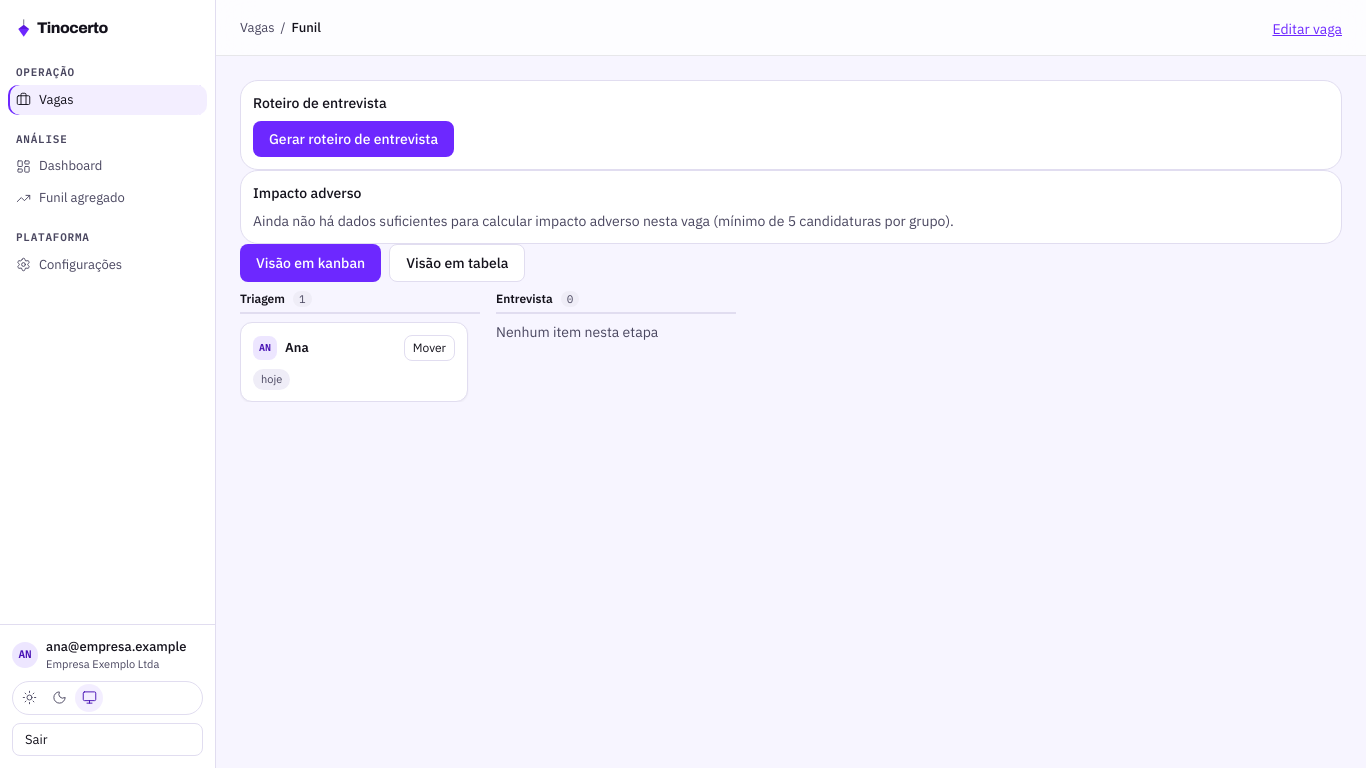
it: FunilPage › trocar de tabela para kanban limpa a seleção e fecha o menu de lote (achado F4)
Check: the link "Ana" is shown, box [285,339,309,356]
Click the button "Visão em tabela".
click(457, 263)  # box [389,244,525,282]
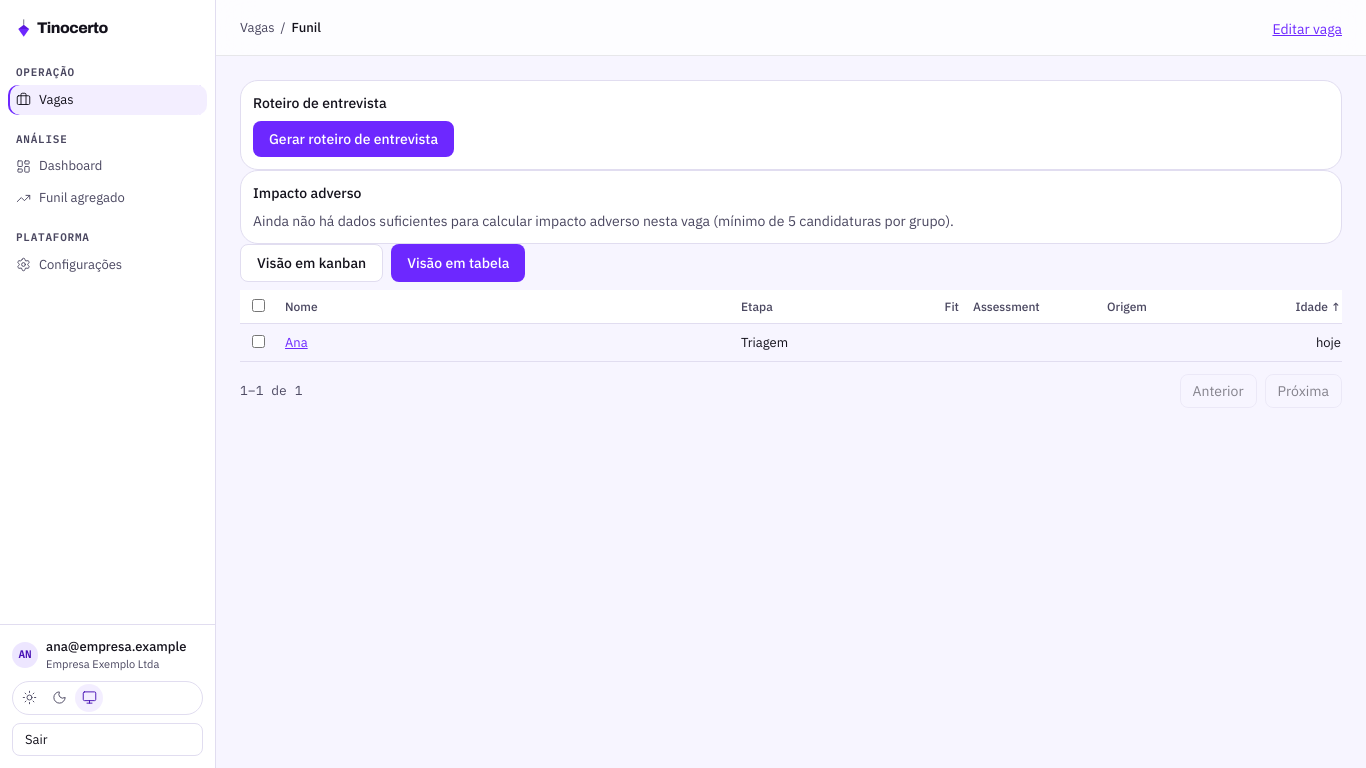
Check: the table is shown, box [240,290,1342,362]
Click the checkbox named "Selecionar linha Ana".
click(258, 341)  # box [252,334,265,348]
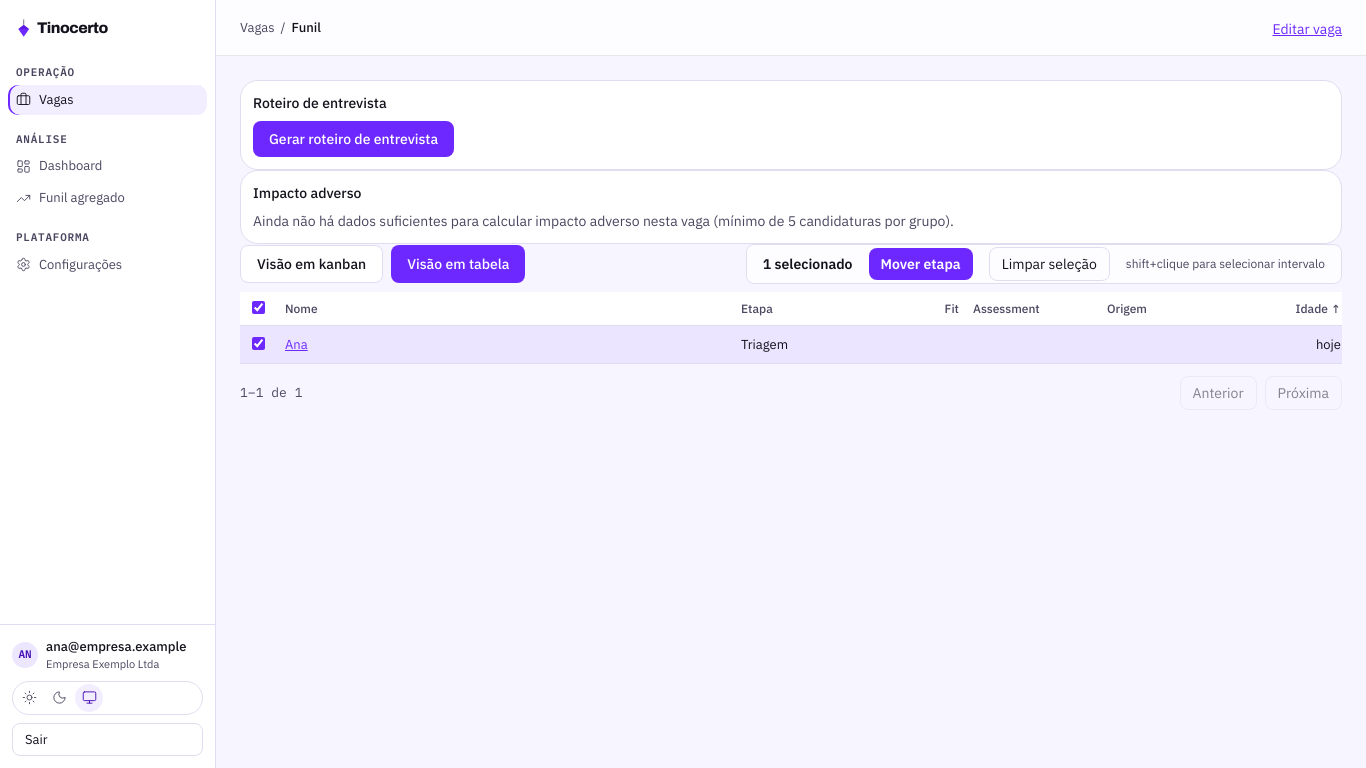
Check: the text "1 selecionado" is shown, box [763,254,852,274]
Click the button "Mover etapa".
click(921, 264)  # box [868,248,973,280]
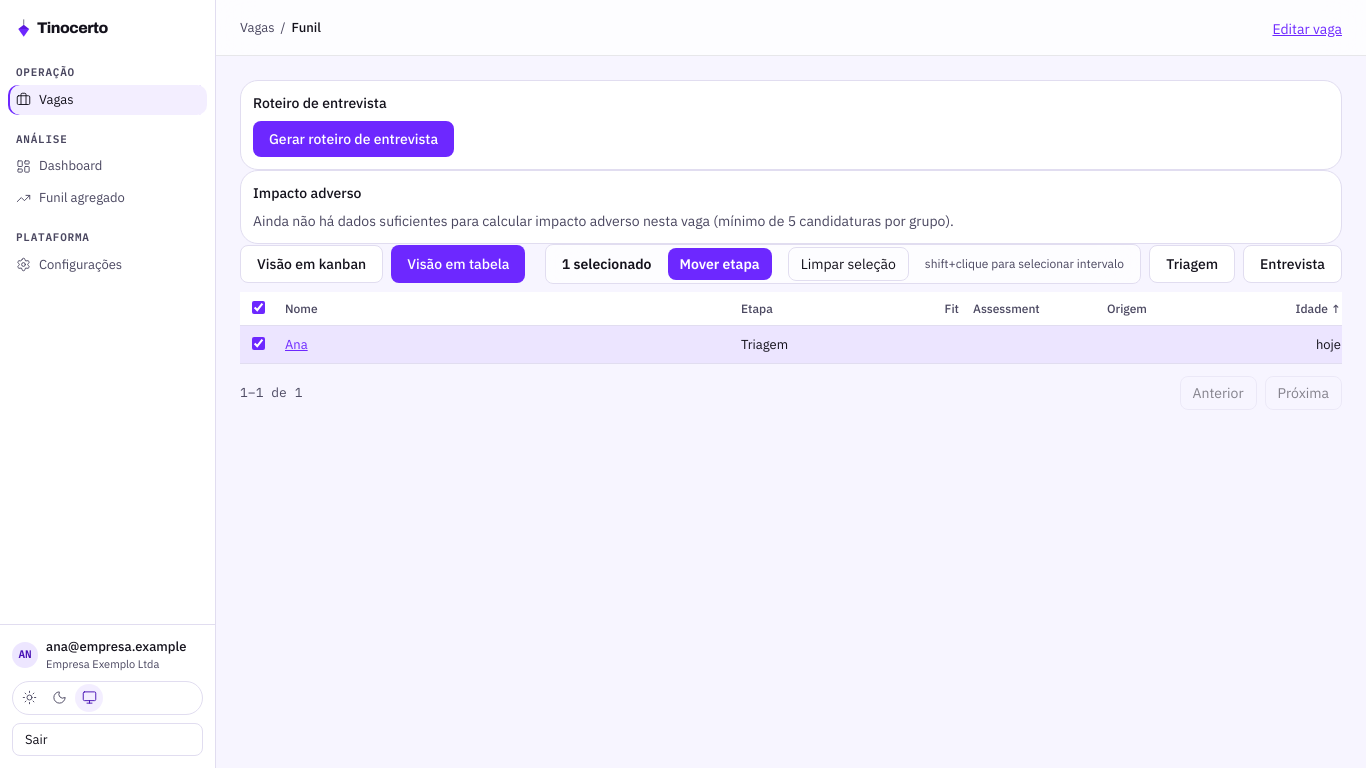
Check: the button "Triagem" is shown, box [1149,245,1235,283]
Click the button "Visão em kanban".
click(312, 264)  # box [240,245,383,283]
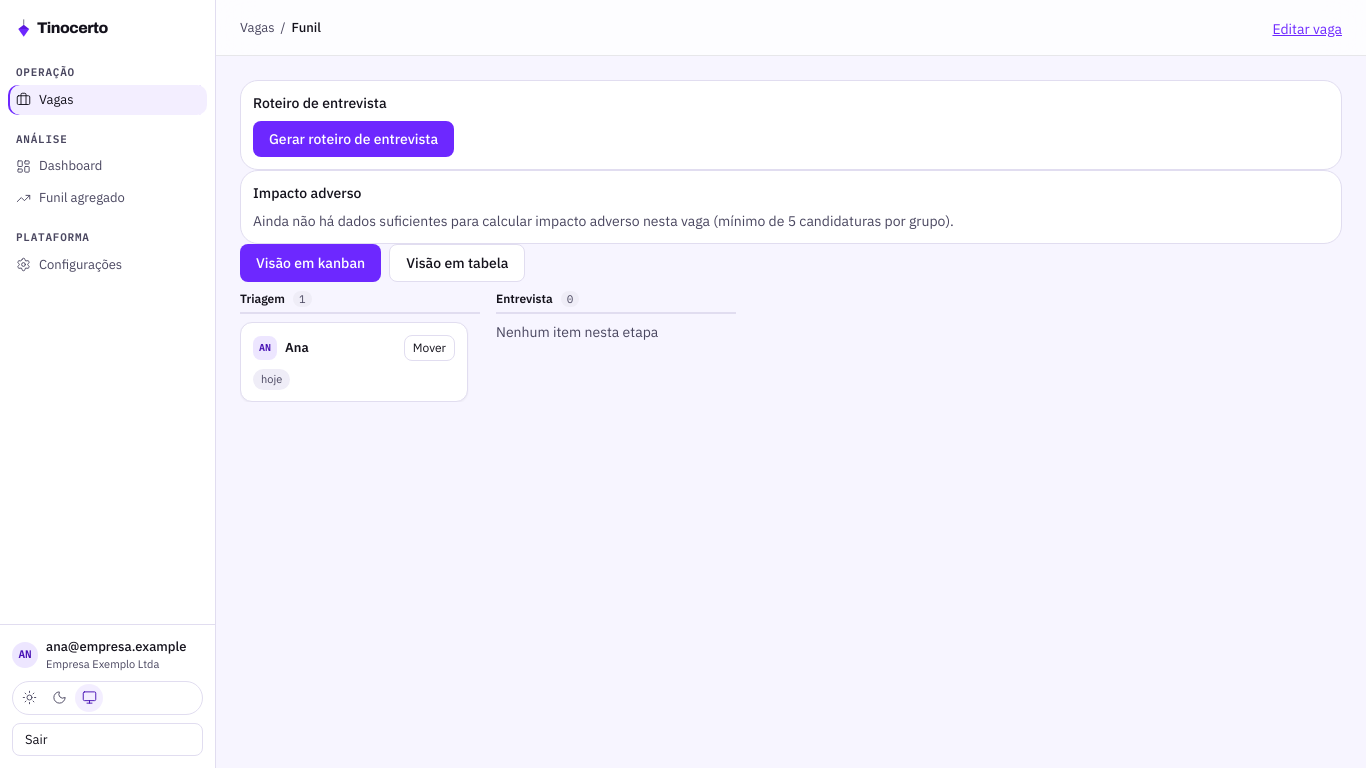
Check: the text "1 selecionado" is gone
Check: the button "Mover etapa" is gone
